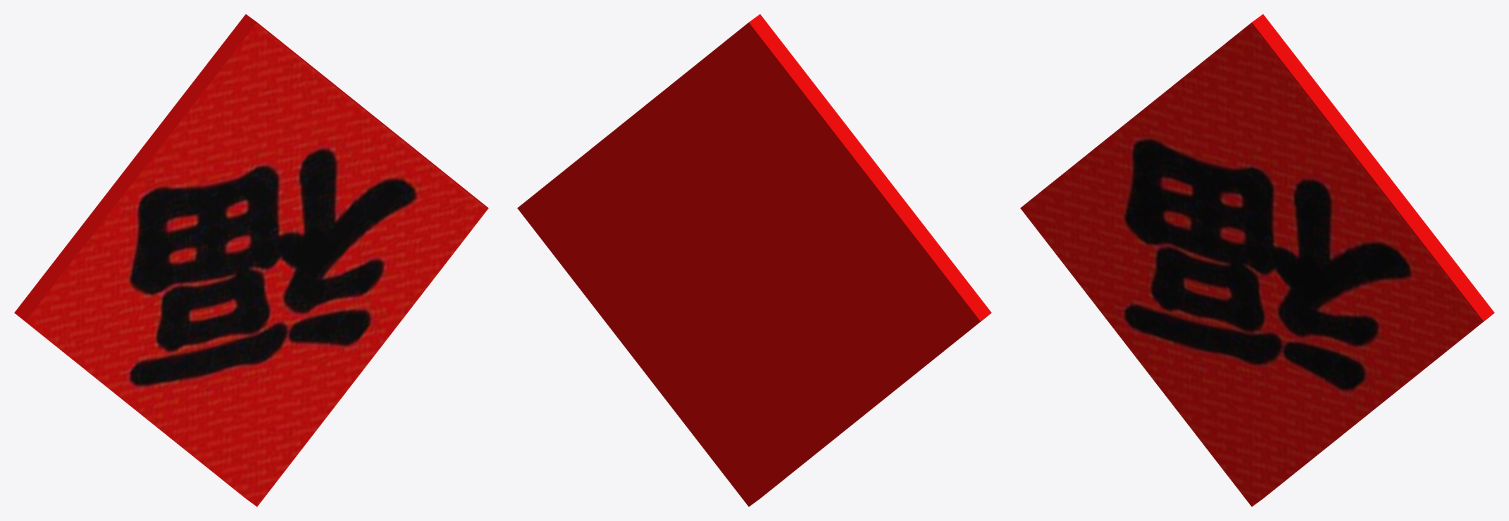
The model's file is Sticker1.fbx.
3 views of the same model, side by side, from view 1: azimuth 30°, elevation 25°; view 2: azimuth 150°, elevation 25°; view 3: azimuth 330°, elevation 25° (orthographic).
Parts seen in each view (by area): view 1: pCube1; view 2: pCube1; view 3: pCube1.
Part boxes in pixels (x1,y1,x2,y2): pCube1: (14, 14, 488, 506); pCube1: (517, 14, 991, 506); pCube1: (1020, 14, 1494, 506).
Bounding box in the file's own units: 63.44 × 63.44 × 2.69.
